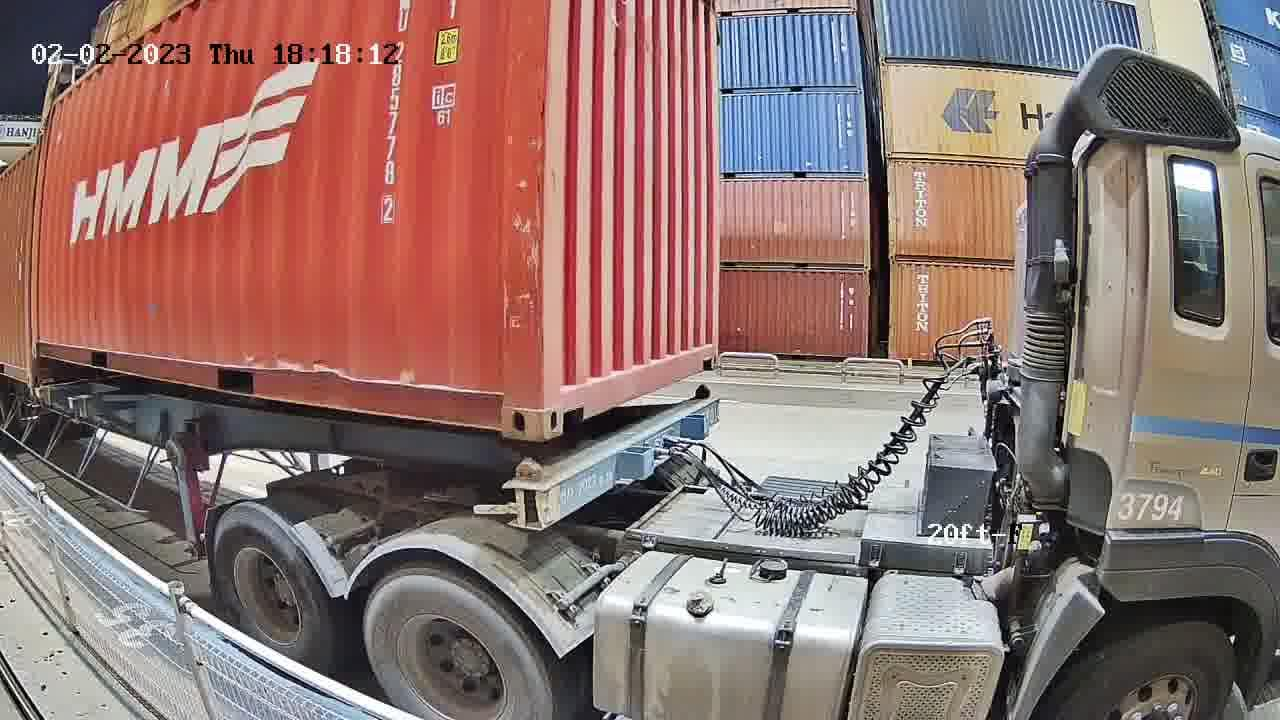Chassis: (506, 396, 718, 530)
Cone: (510, 460, 543, 532), (692, 384, 714, 401)
Hole_L: (541, 353, 593, 440)
Hole_R: (473, 364, 544, 441), (696, 330, 720, 371)
Tire: (365, 569, 557, 719), (212, 505, 332, 671)
